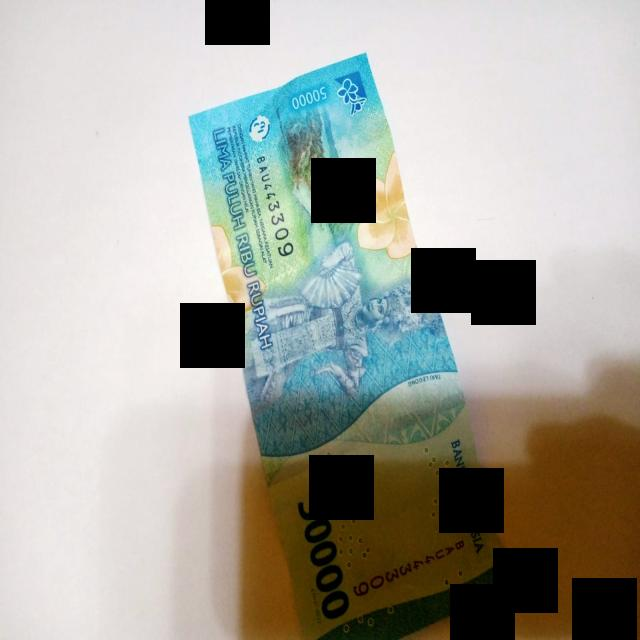lima puluh ribu rupiah: (190, 55, 511, 638)
